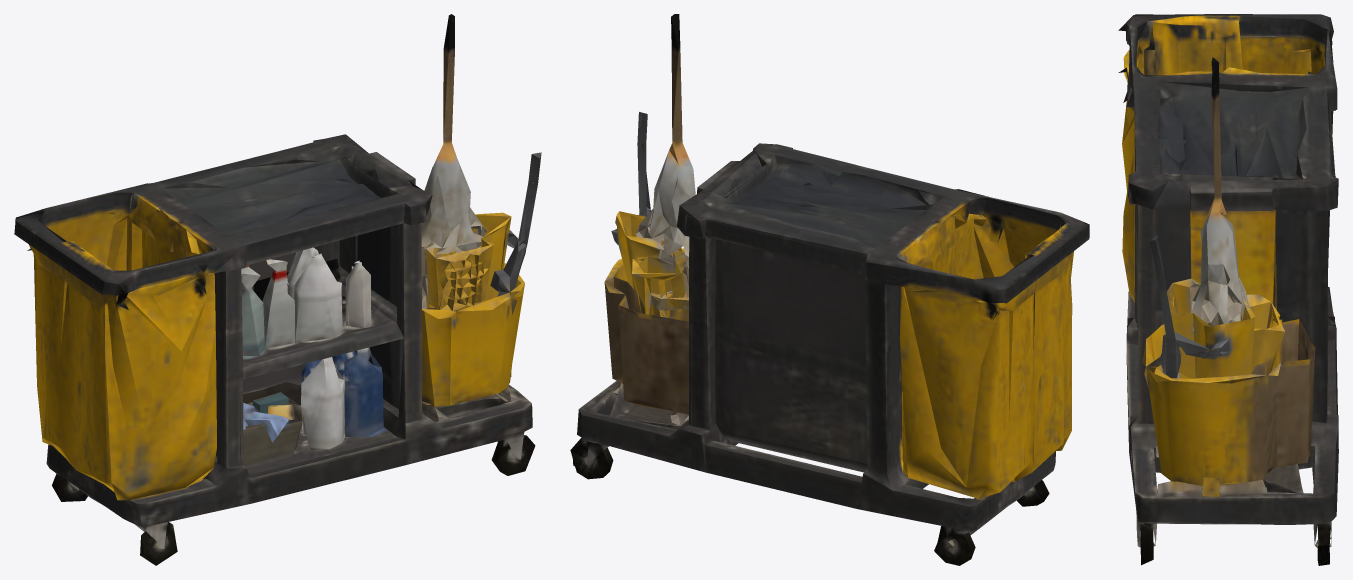
The model's file is janitor-cart.glb.
The picture shows the model from 3 angles, left to right: view 1: azimuth 30°, elevation 25°; view 2: azimuth 150°, elevation 25°; view 3: azimuth 270°, elevation 25°; orthographic projection. The views are drawn at different scales.
Visible parts, largest first — view 1: janitorCart; view 2: janitorCart; view 3: janitorCart.
Boxes of the visible parts, x1=… form: janitorCart: x1=14, y1=14, x2=541, y2=565; janitorCart: x1=570, y1=14, x2=1089, y2=565; janitorCart: x1=1118, y1=14, x2=1338, y2=565.
Bounding box in the file's own units: 1.42 × 1.34 × 0.55.
1 material, 1 textured.
